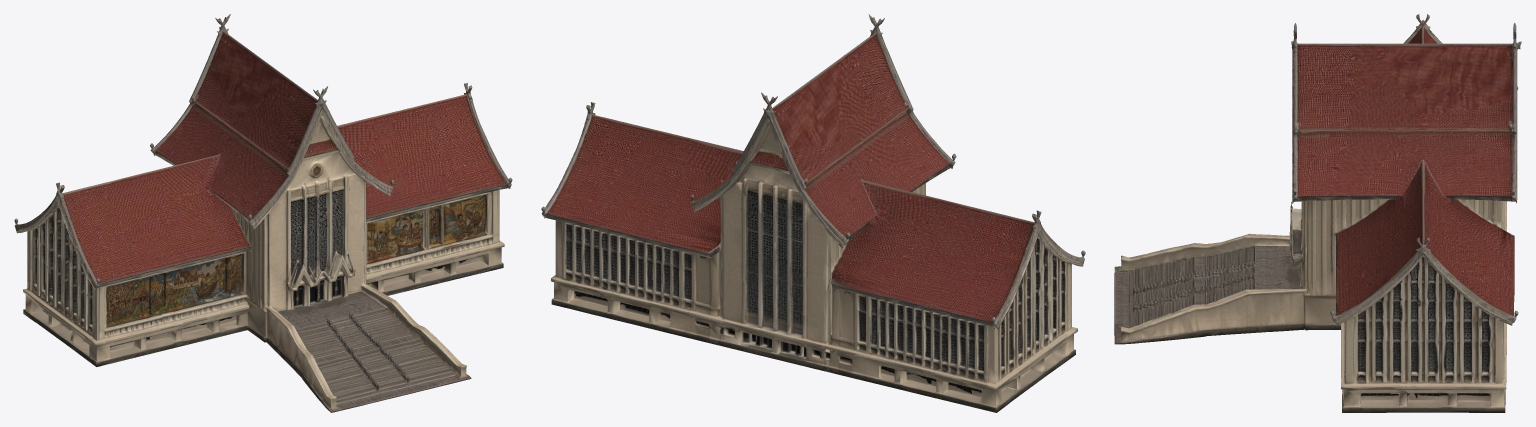
Rendered from main_museum_facade.glb.
3 renders of one model, left to right at view 1: azimuth 30°, elevation 25°; view 2: azimuth 150°, elevation 25°; view 3: azimuth 270°, elevation 25°, orthographic. The views are drawn at different scales.
Visible parts, largest first — view 1: Meshy_AI_Heritage_Hall_0813100900_texture.001; view 2: Meshy_AI_Heritage_Hall_0813100900_texture.001; view 3: Meshy_AI_Heritage_Hall_0813100900_texture.001.
Part boxes in pixels (bbox=[...]): Meshy_AI_Heritage_Hall_0813100900_texture.001: bbox=[14, 14, 512, 412]; Meshy_AI_Heritage_Hall_0813100900_texture.001: bbox=[541, 14, 1085, 412]; Meshy_AI_Heritage_Hall_0813100900_texture.001: bbox=[1114, 14, 1521, 412].
Bounding box in the file's own units: 1.9 × 1.09 × 1.44.
Materials: 1 (1 with a texture image).
